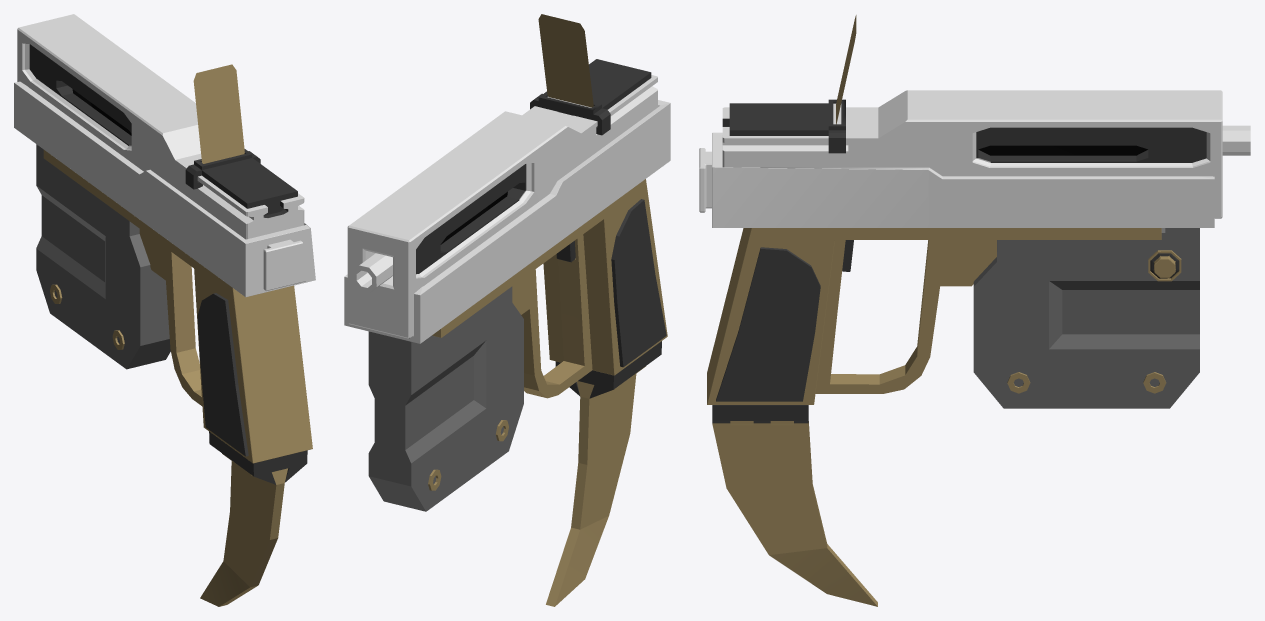
The model's file is pist.fbx.
The picture shows the model from 3 angles, left to right: view 1: azimuth 30°, elevation 25°; view 2: azimuth 150°, elevation 25°; view 3: azimuth 270°, elevation 25°; orthographic projection. The views are drawn at different scales.
Parts seen in each view (by area): view 1: сборка; view 2: сборка; view 3: сборка.
Boxes of the visible parts, x1=… form: сборка: x1=14, y1=14, x2=315, y2=606; сборка: x1=344, y1=14, x2=670, y2=606; сборка: x1=699, y1=15, x2=1250, y2=606.
Size of the model in its own units: 2.82 by 20.51 by 17.64.
